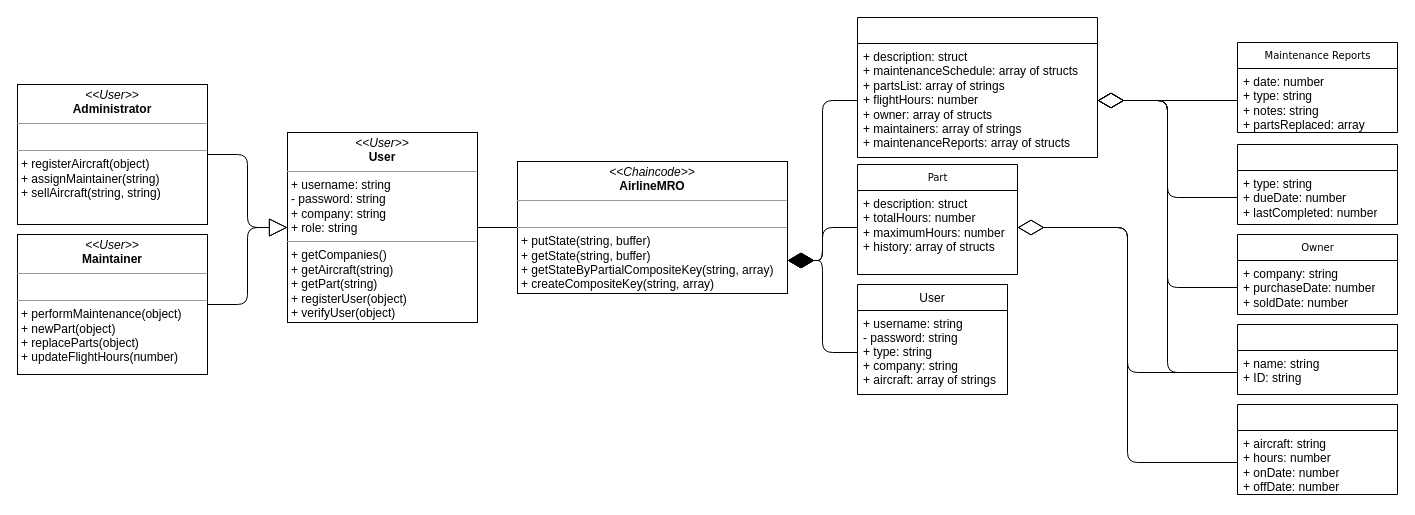
This 1415x515 diagram has some shape labels left out. Each missing label, with the box of its shape:
Aircraft: (856, 16, 1098, 158)
Description: (1236, 324, 1398, 394)
History: (1236, 404, 1398, 494)
Maintenance Schedule: (1236, 144, 1398, 224)
